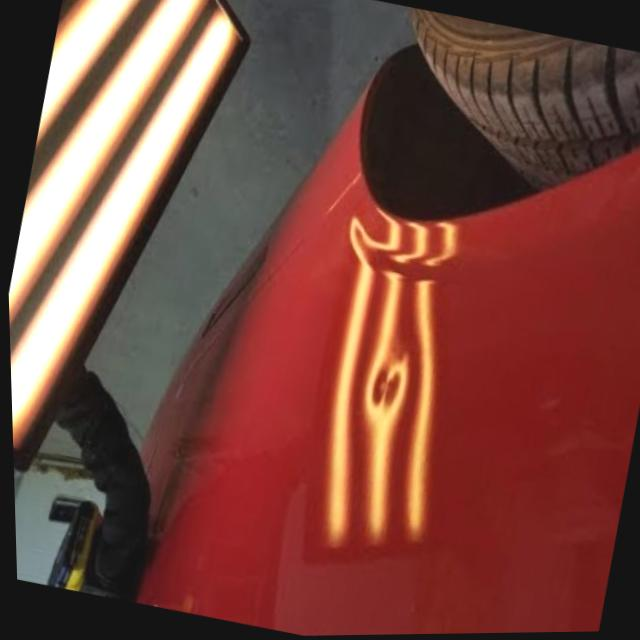PDR-Dent: (356, 347, 412, 431)
